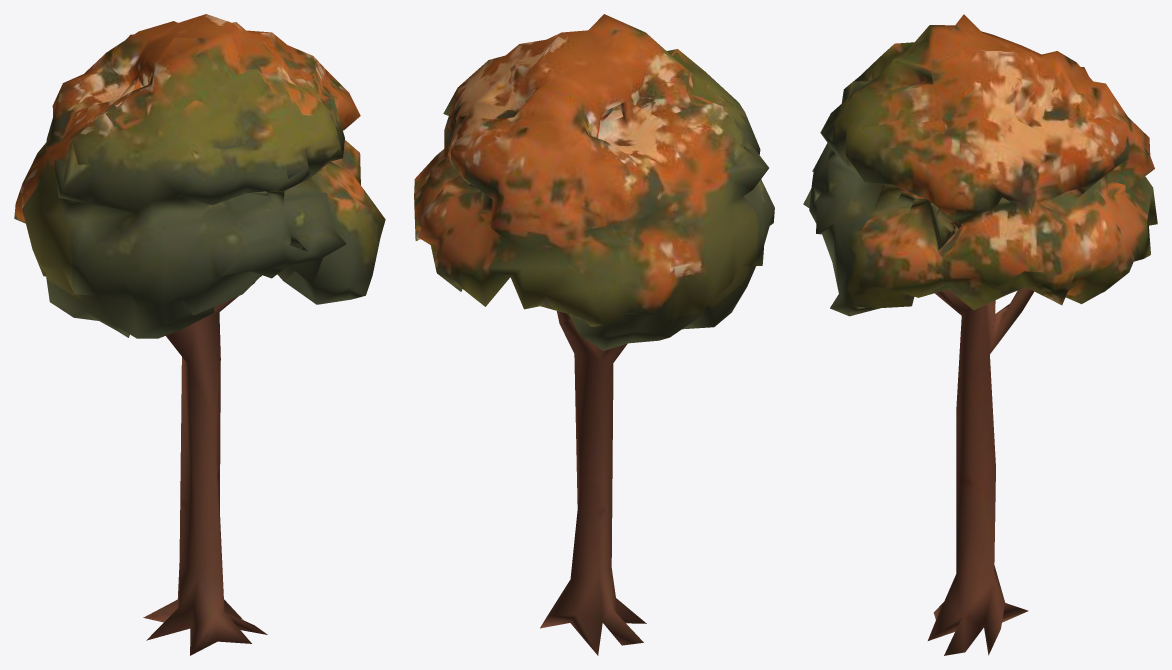
Rendered from demo_tree_pixel.glb.
3 views of the same model, side by side, from view 1: azimuth 30°, elevation 25°; view 2: azimuth 150°, elevation 25°; view 3: azimuth 270°, elevation 25° (orthographic).
Visible parts, largest first — view 1: tripo_node_514324b3-51f3-4986-9d2d-d3bcf04dd735.001; view 2: tripo_node_514324b3-51f3-4986-9d2d-d3bcf04dd735.001; view 3: tripo_node_514324b3-51f3-4986-9d2d-d3bcf04dd735.001.
Boxes of the visible parts, box(x1,y1,x2,y2) form: tripo_node_514324b3-51f3-4986-9d2d-d3bcf04dd735.001: box(14, 14, 385, 655); tripo_node_514324b3-51f3-4986-9d2d-d3bcf04dd735.001: box(414, 14, 774, 655); tripo_node_514324b3-51f3-4986-9d2d-d3bcf04dd735.001: box(803, 14, 1157, 655).
Bounding box in the file's own units: 0.5368 × 0.9964 × 0.5297.
1 material, 1 textured.
